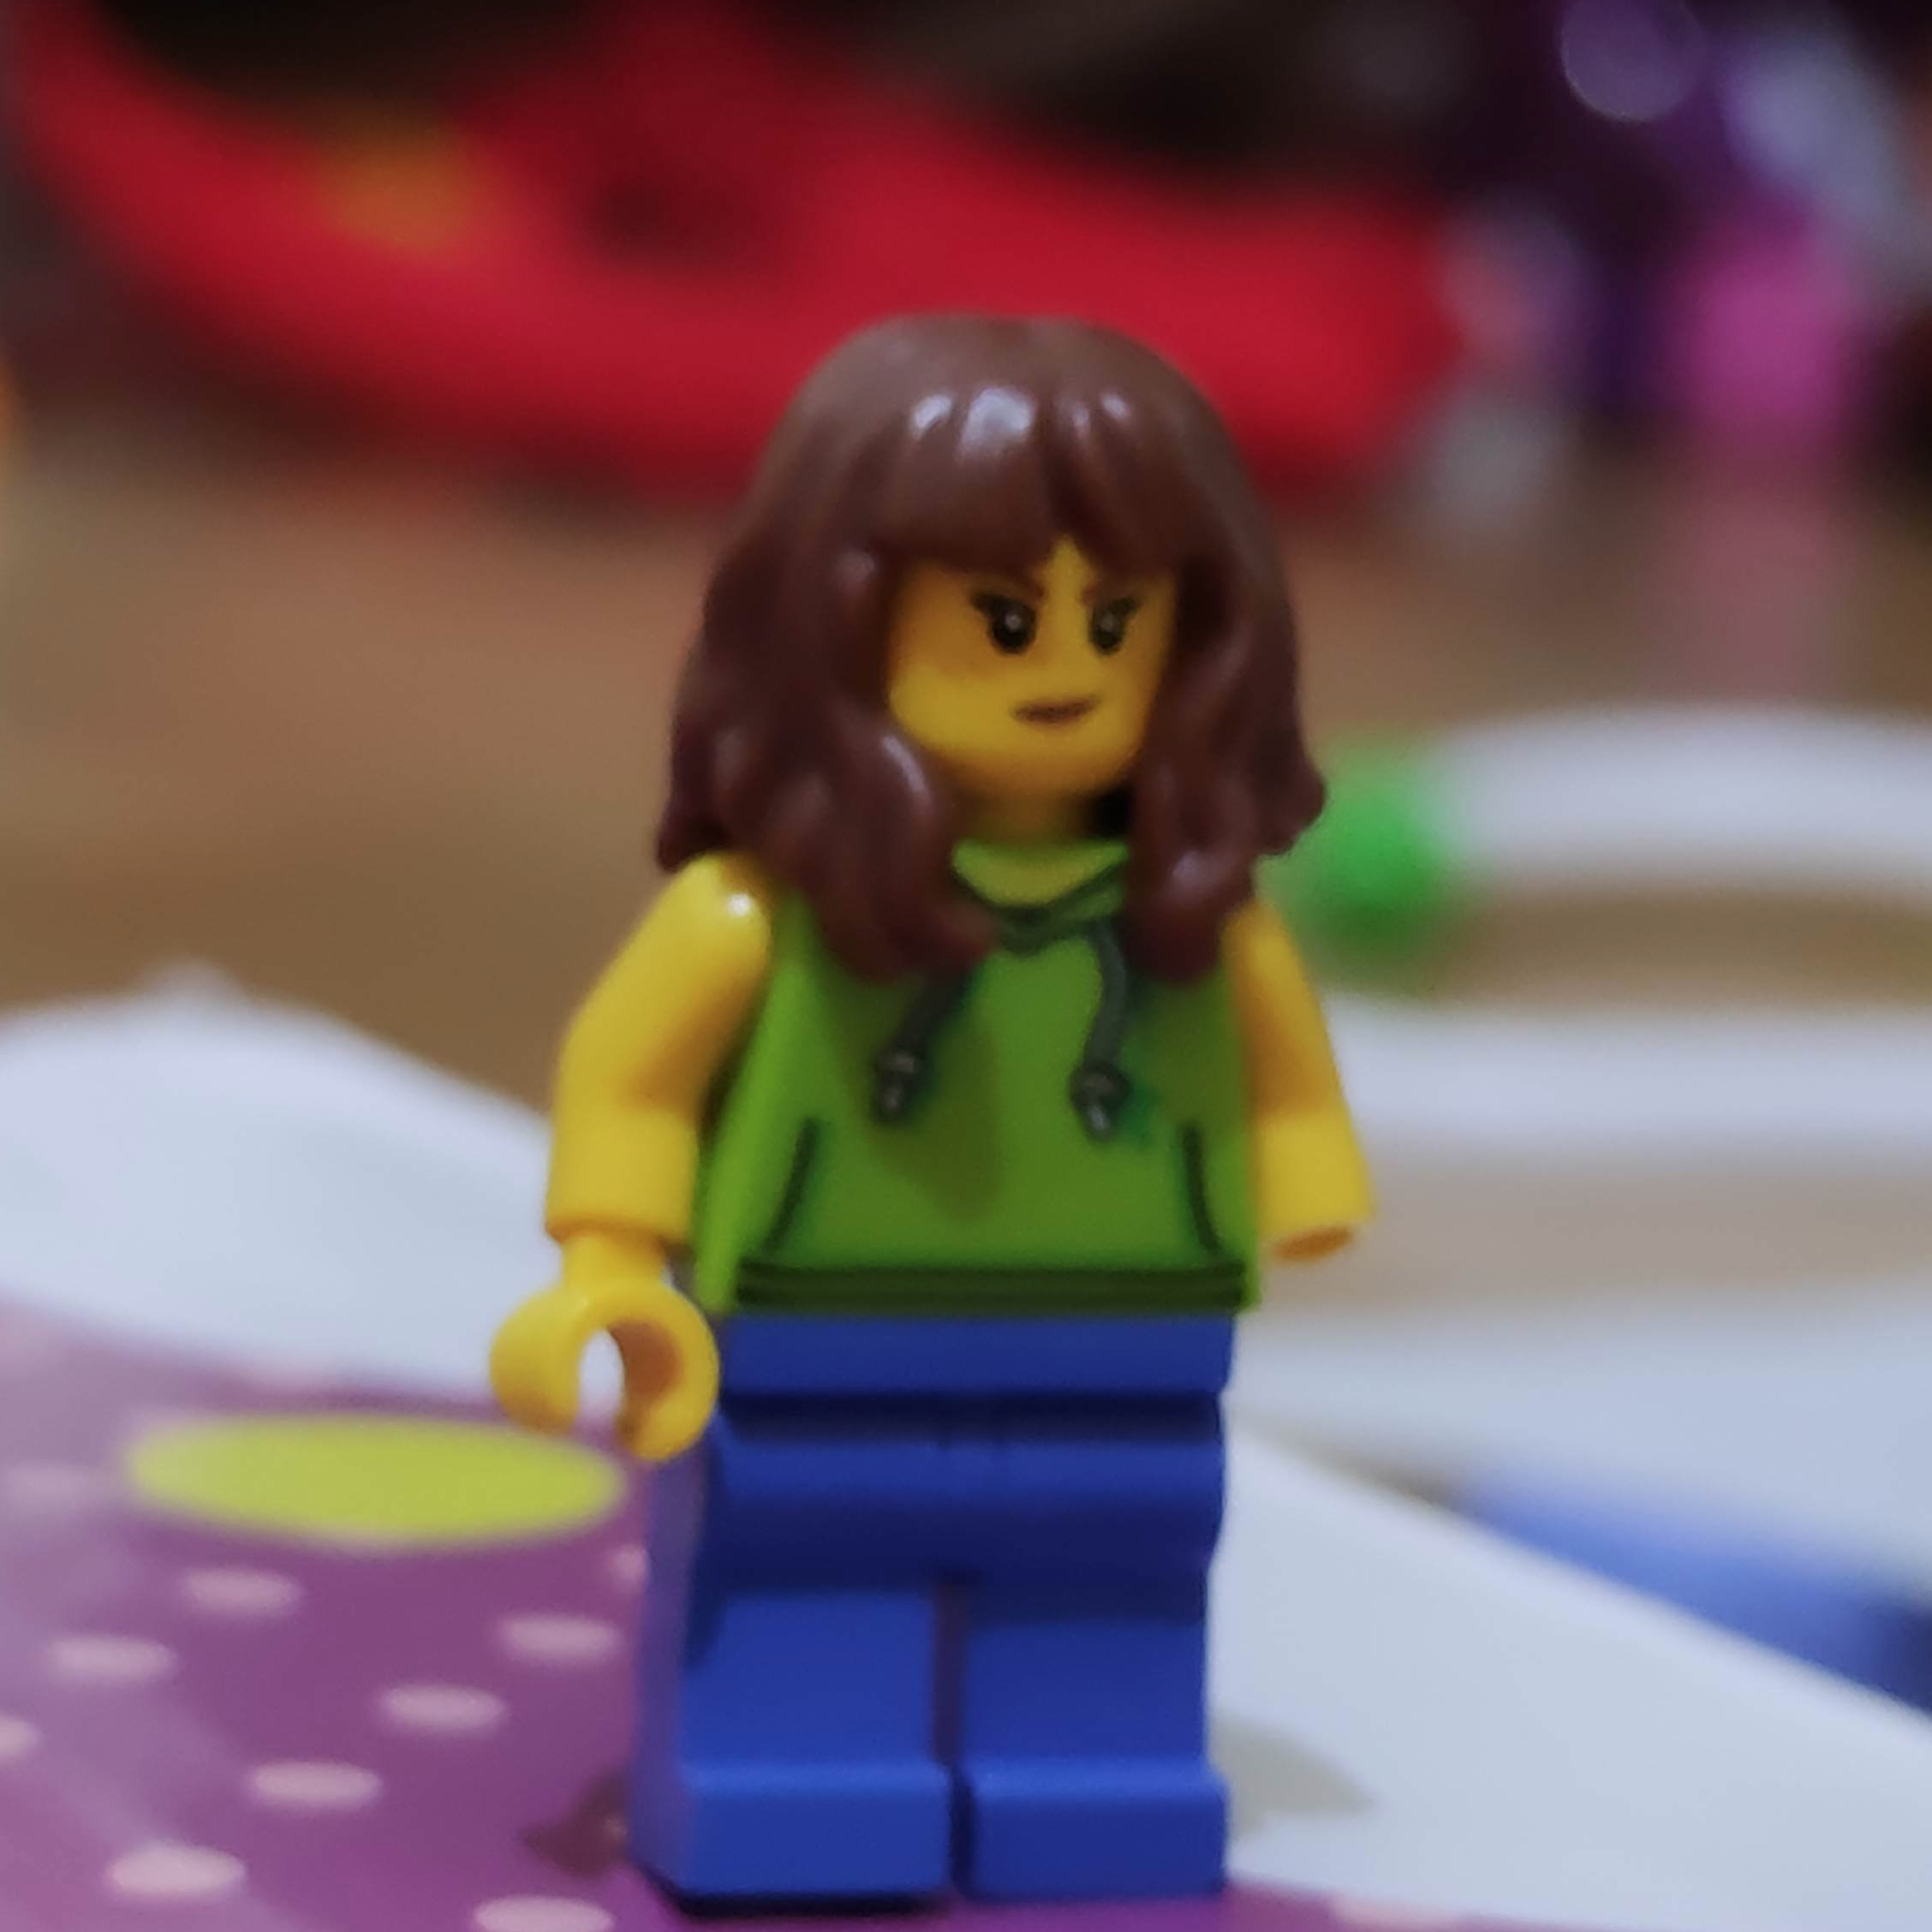lego: (495, 310, 1371, 1905)
